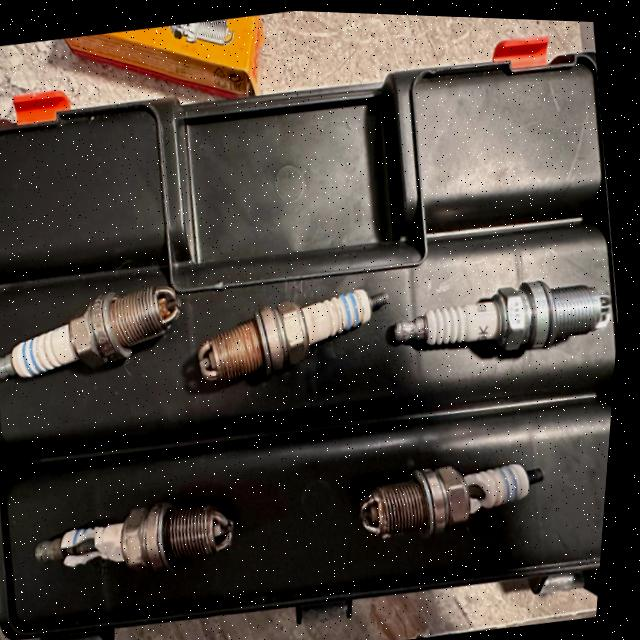damaged_spark-plug: (357, 444, 563, 551), (33, 496, 245, 588)
spark-plug: (394, 262, 625, 369), (0, 274, 196, 399), (197, 274, 401, 390)
